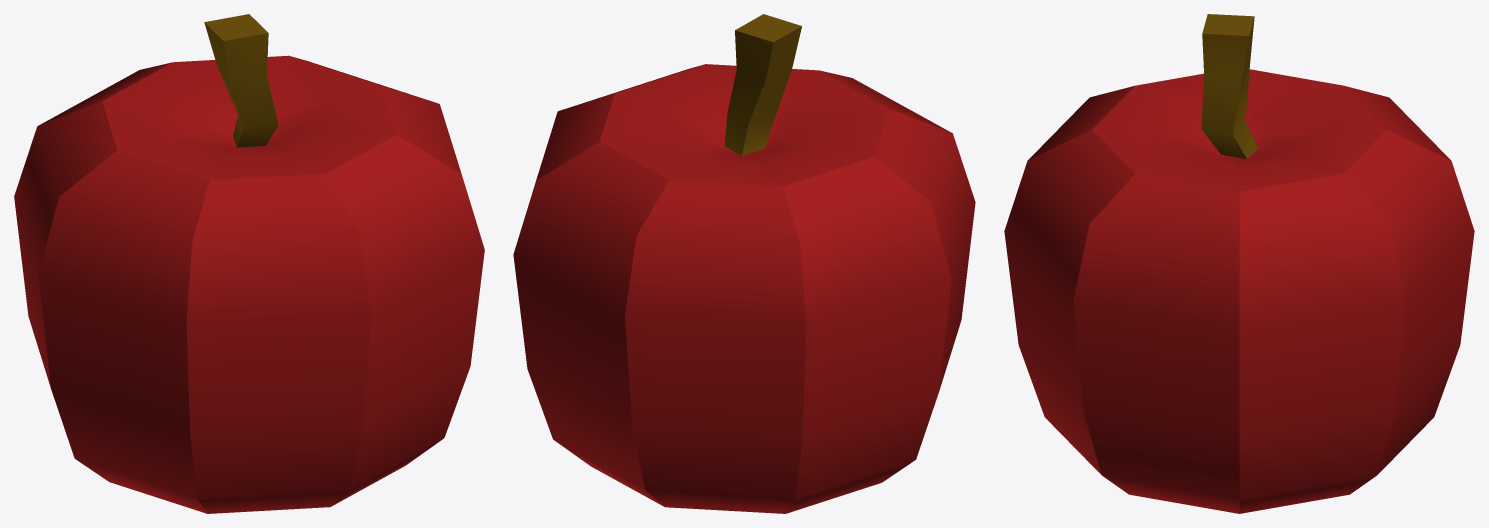
File: Hele_Appel.fbx
The picture shows the model from 3 angles, left to right: view 1: azimuth 30°, elevation 25°; view 2: azimuth 150°, elevation 25°; view 3: azimuth 270°, elevation 25°; orthographic projection. The views are drawn at different scales.
Visible parts, largest first — view 1: Hele_Appel; view 2: Hele_Appel; view 3: Hele_Appel.
Boxes of the visible parts, bbox=[...] form: Hele_Appel: bbox=[14, 14, 484, 513]; Hele_Appel: bbox=[513, 14, 975, 513]; Hele_Appel: bbox=[1004, 14, 1474, 513].
Size of the model in its own units: 2 by 1.97 by 2.
